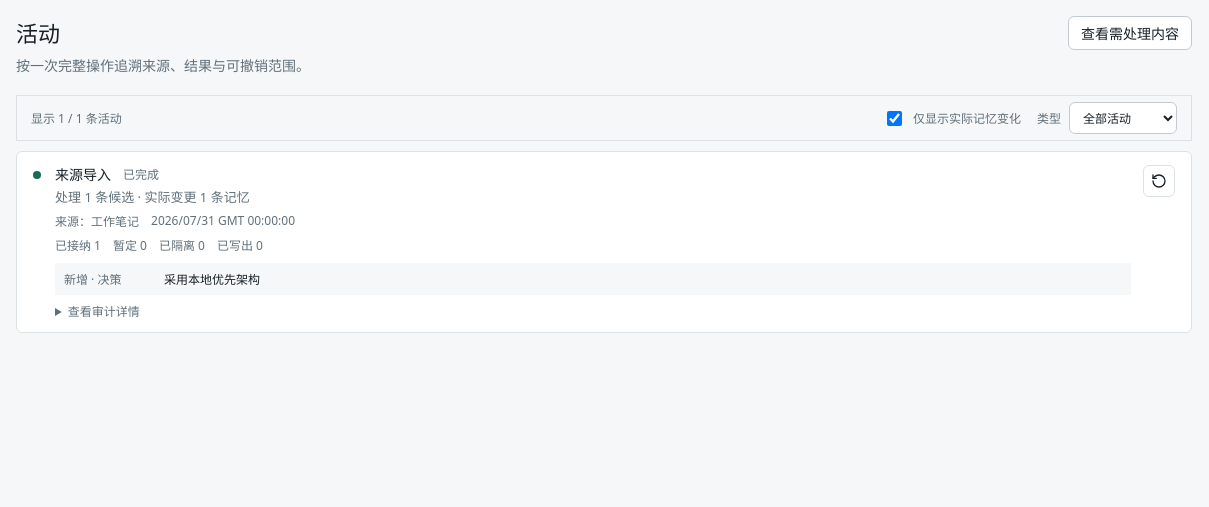
it: ActivityView › shows the source, readable result, and expandable known and unknown details
Click the heading "查看审计详情".
click(104, 312)  # box [68, 303, 140, 320]
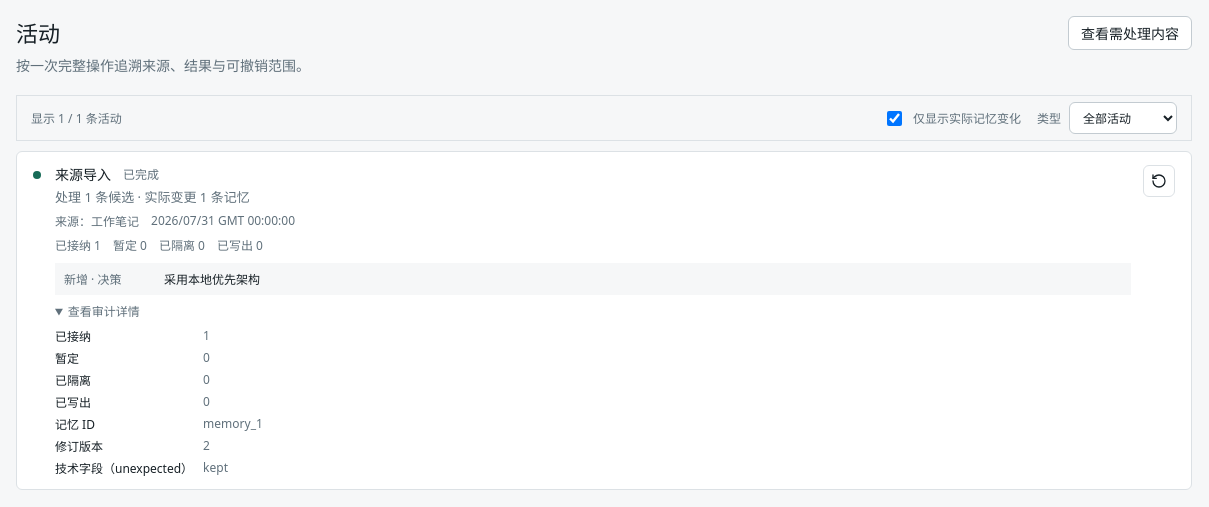
Expected: the text "记忆 ID" is shown, [55, 416, 95, 433]
Expected: the text "修订版本" is shown, [55, 438, 103, 455]
Expected: the text "技术字段（unexpected）" is shown, [55, 459, 193, 477]
